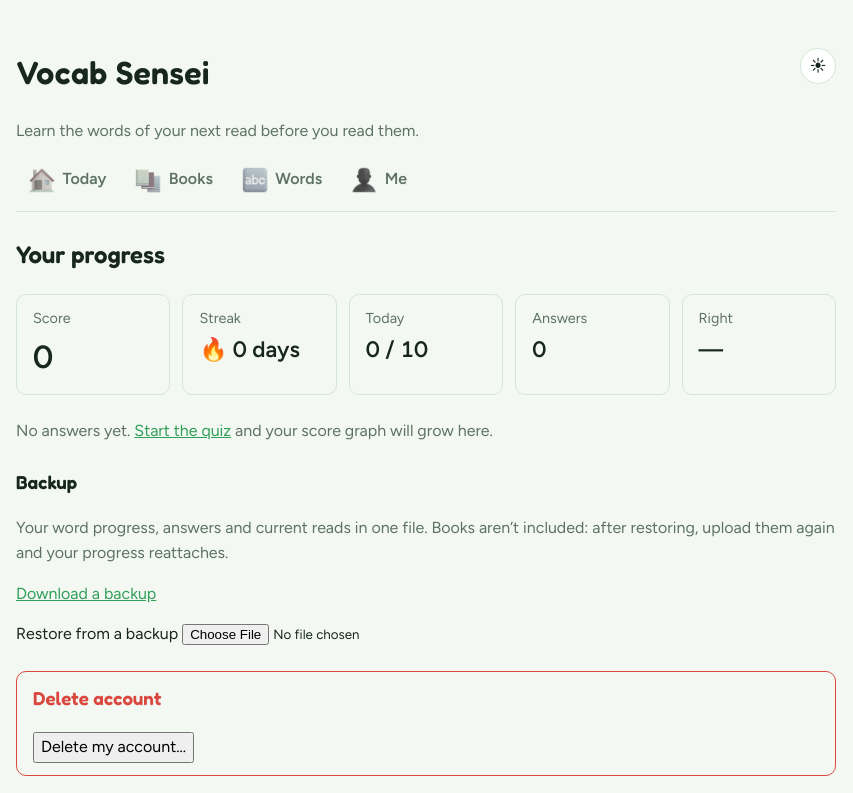
it: deleting the account › can be cancelled
Click the button "Delete my account…". click: [114, 747]
box: [33, 732, 194, 763]
(page scrolled)
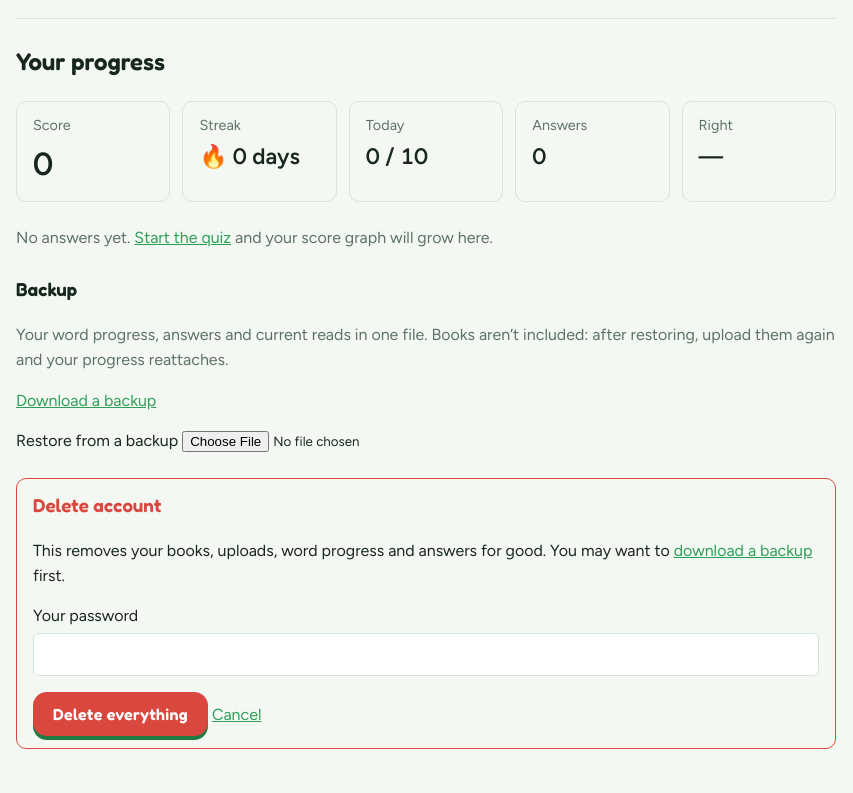
Click the button "Cancel". click: [237, 715]
box: [212, 703, 261, 728]
(page scrolled)
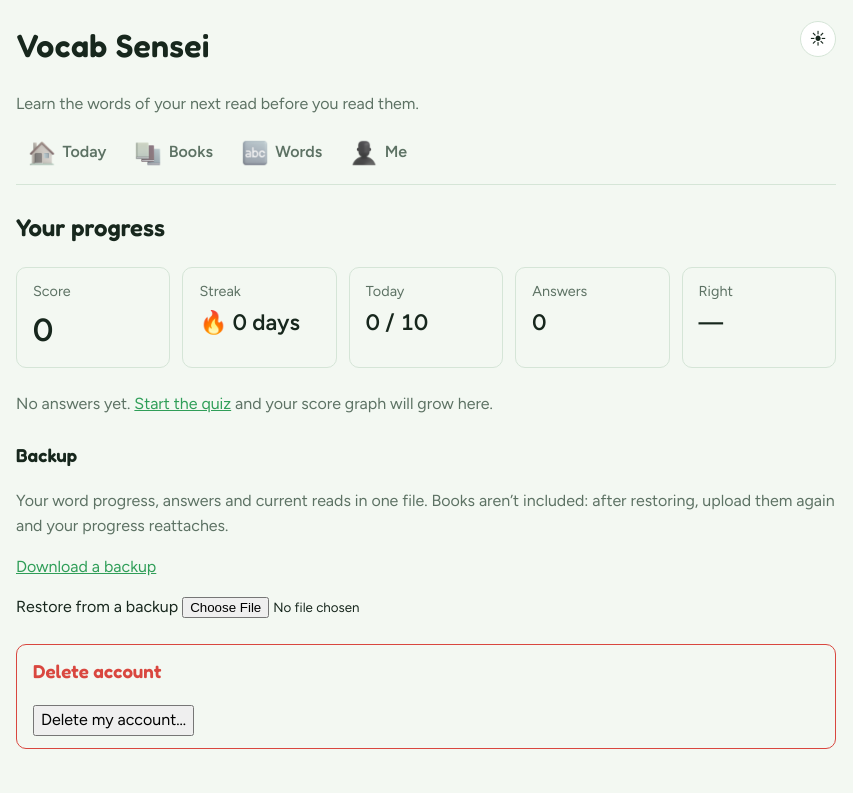
Expected: the label labelled "Your password" is gone
